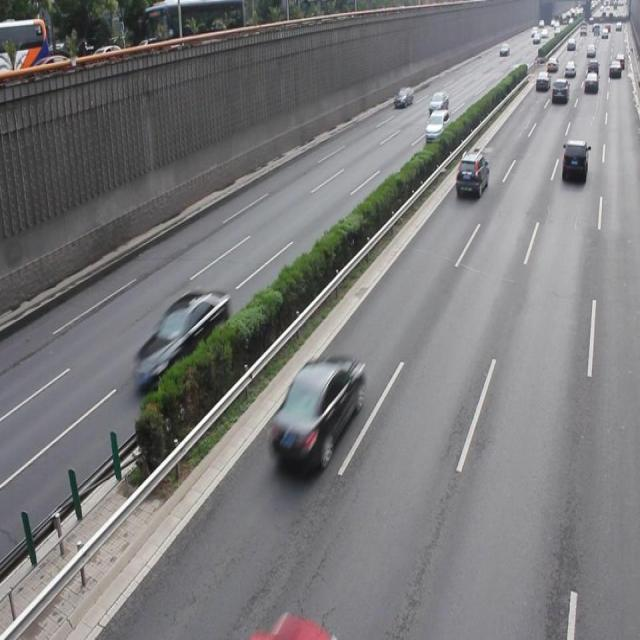car: (268, 352, 363, 466), (133, 288, 230, 390), (454, 151, 488, 199), (560, 138, 587, 184)
